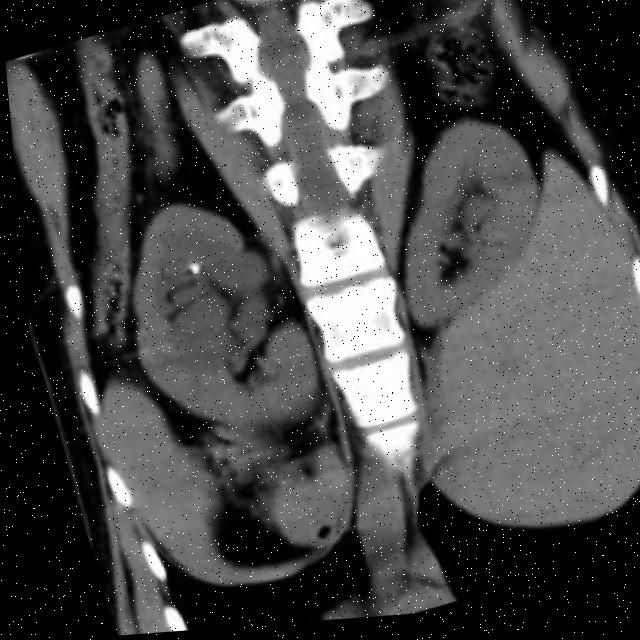Tas_Var: (179, 261, 197, 280)
